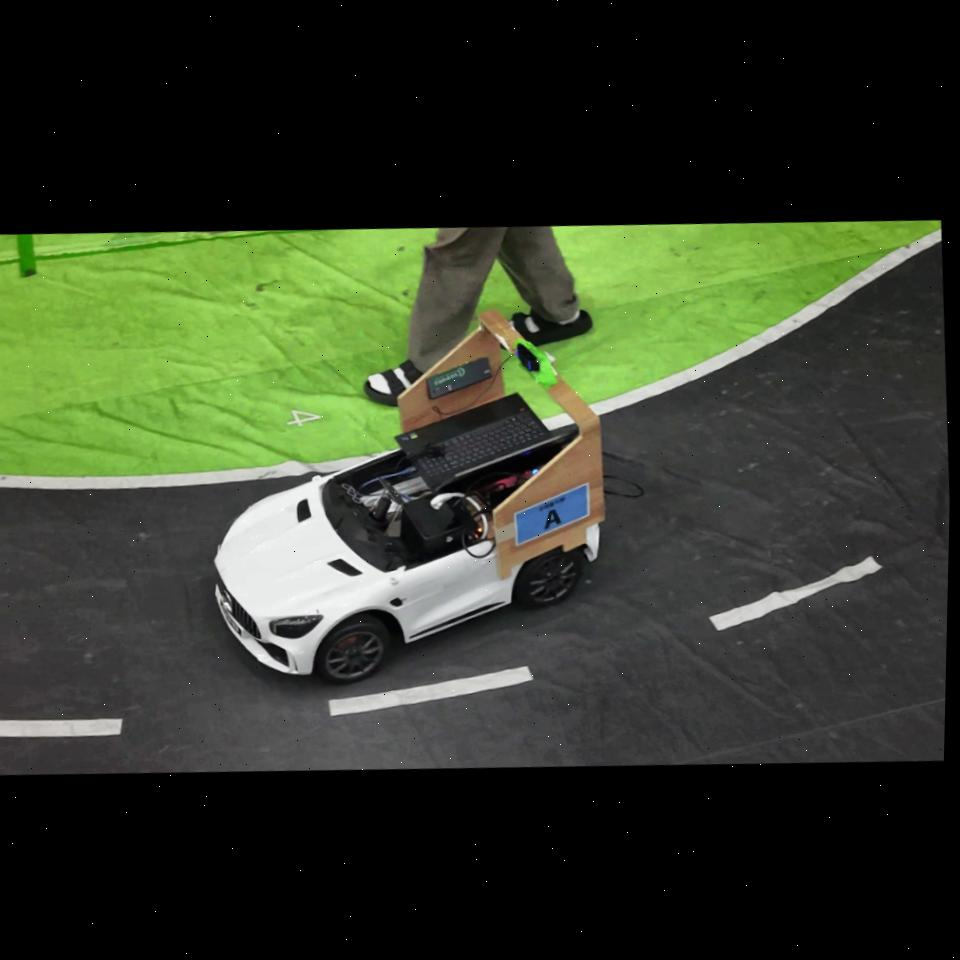broken_line: (709, 557, 882, 630), (330, 666, 533, 716), (0, 718, 123, 737)
